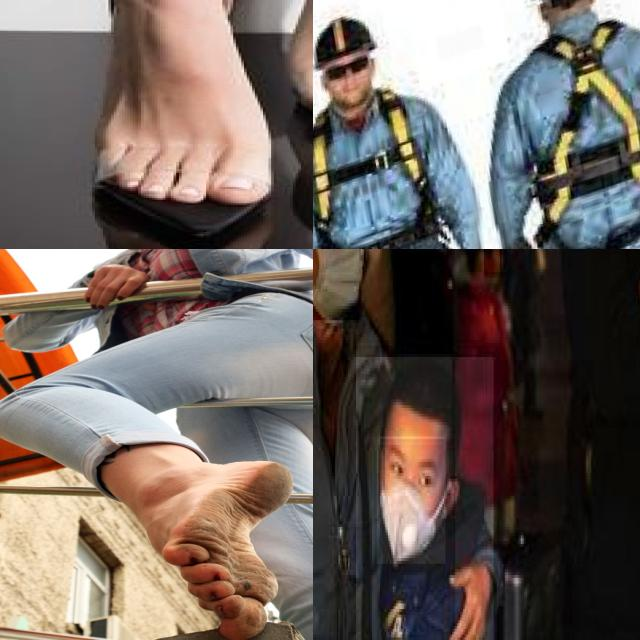Barefoots: (101, 0, 274, 205), (162, 461, 294, 640)
Harness: (536, 23, 640, 244), (313, 90, 450, 249)
No_Glasses: (382, 437, 439, 504)
face_mask: (376, 436, 446, 564), (313, 249, 362, 323)
face_nomask: (484, 249, 503, 280)
hand_noglove: (441, 536, 496, 640)
head_nohelmet: (385, 354, 452, 439), (466, 249, 496, 275)
person: (313, 249, 455, 640), (356, 357, 495, 640)
